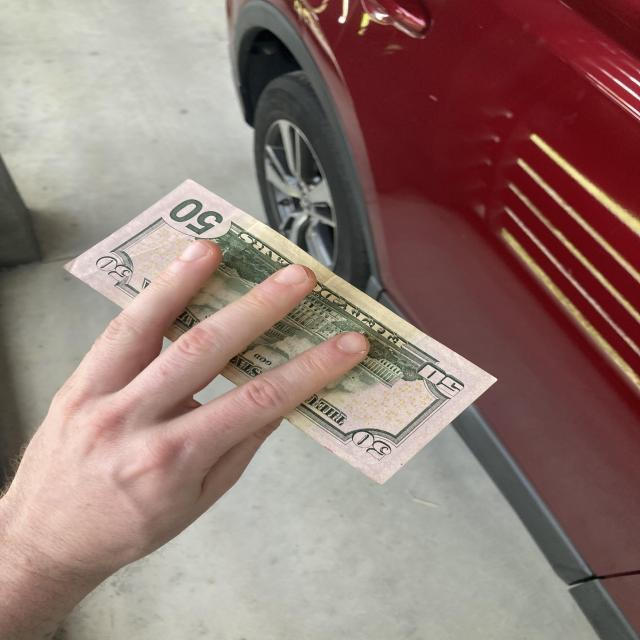fifty: (63, 177, 497, 486)
